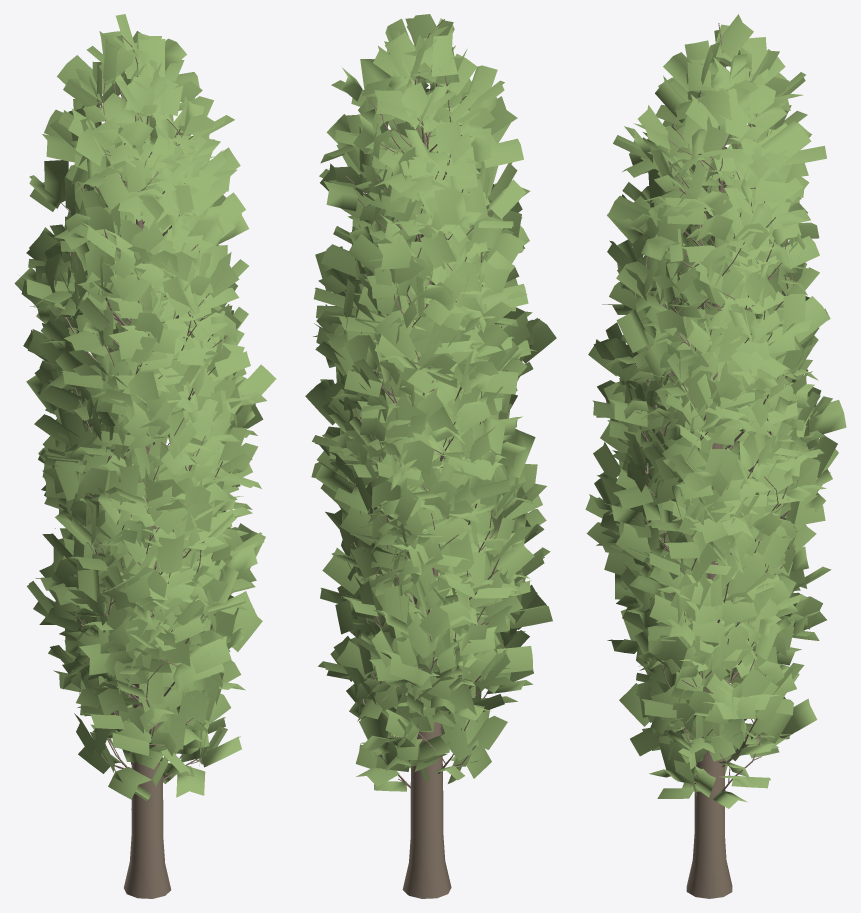
File: Poplar_1_lod0.glb
3 renders of one model, left to right at view 1: azimuth 30°, elevation 25°; view 2: azimuth 150°, elevation 25°; view 3: azimuth 270°, elevation 25°, orthographic. The views are drawn at different scales.
Visible parts, largest first — view 1: Poplar_1_lod0; view 2: Poplar_1_lod0; view 3: Poplar_1_lod0.
Part boxes in pixels (left/top/right/bottom): Poplar_1_lod0: left=14, top=14, right=276, bottom=898; Poplar_1_lod0: left=305, top=14, right=556, bottom=898; Poplar_1_lod0: left=585, top=14, right=846, bottom=898.
Bounding box in the file's own units: 6.01 × 22.76 × 6.22.
